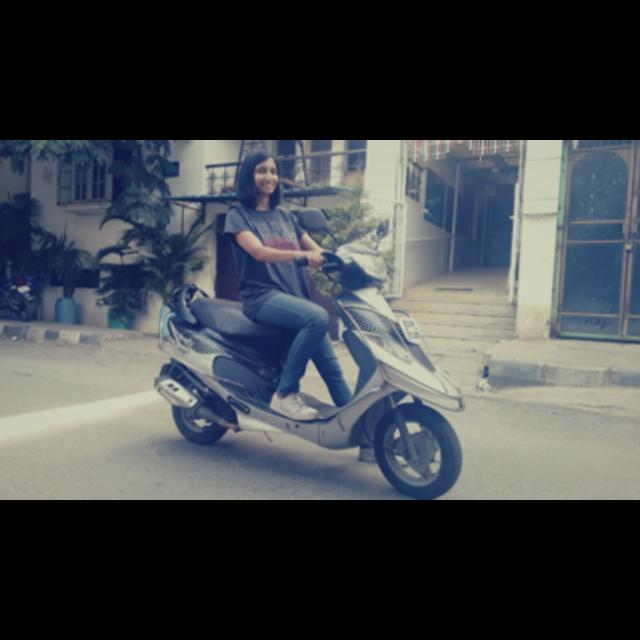Without Helmet: (238, 146, 282, 202)
